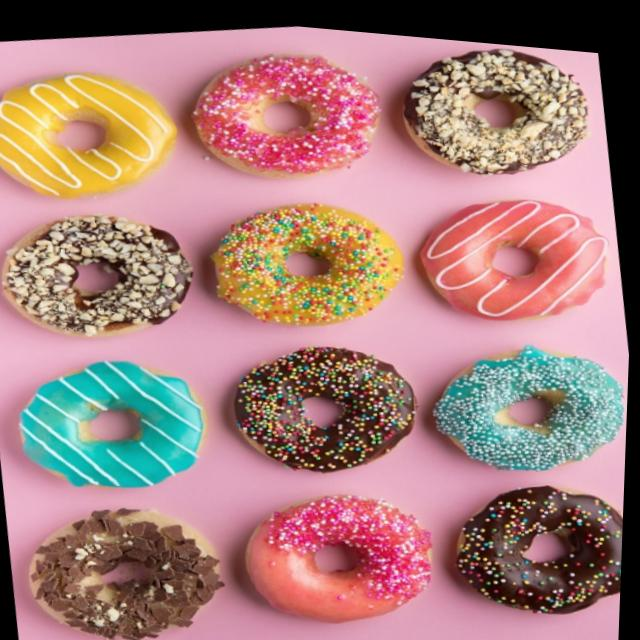donut: (189, 174, 416, 343), (231, 466, 452, 639), (168, 27, 387, 199), (4, 338, 223, 508), (213, 319, 431, 488), (376, 27, 602, 190), (401, 168, 622, 332), (418, 314, 632, 481), (19, 483, 243, 640), (0, 190, 206, 360), (436, 453, 628, 624), (0, 50, 180, 222)
